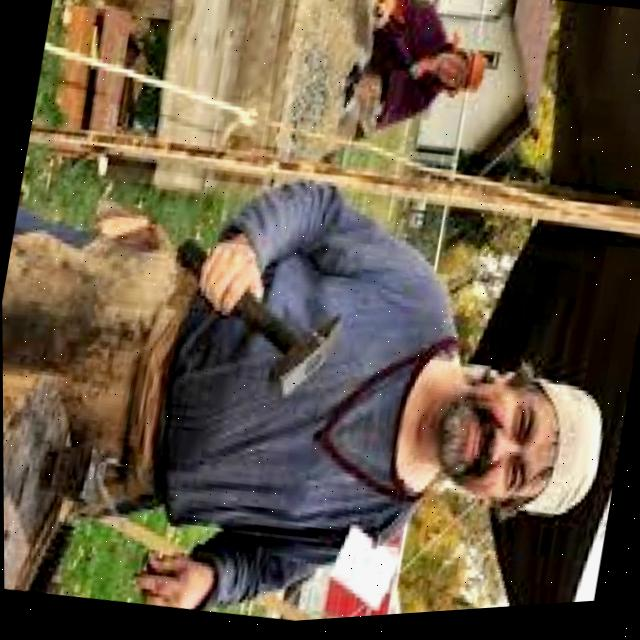hammer: (149, 217, 368, 426)
